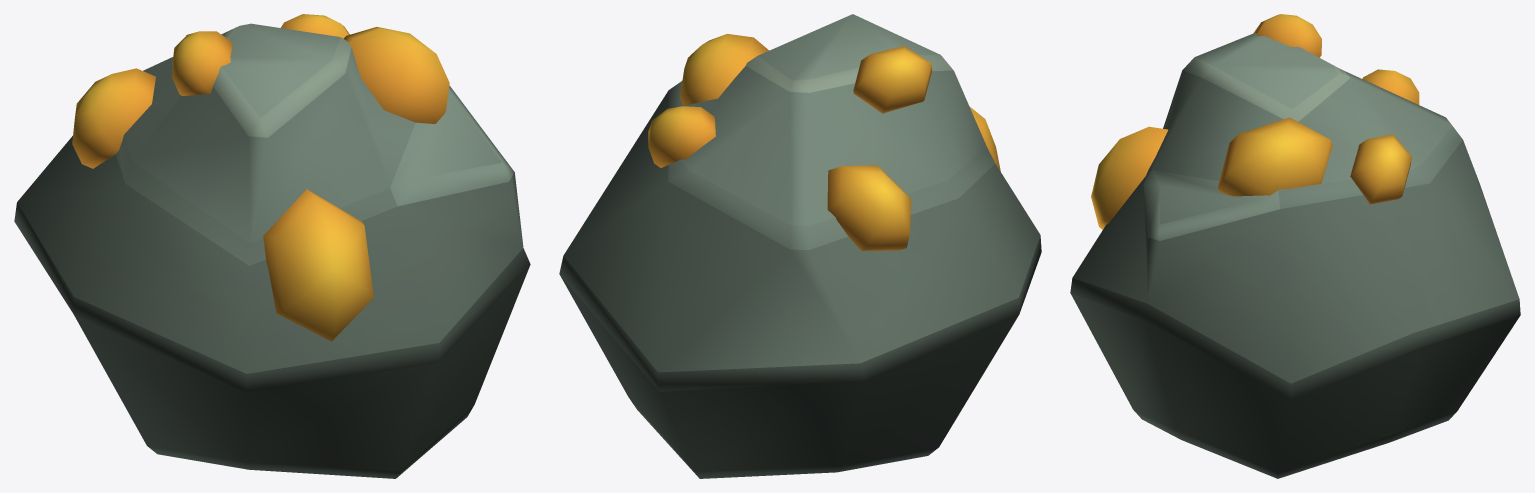
Rendered from ore_nuggets_gold_M.fbx.
3 renders of one model, left to right at view 1: azimuth 30°, elevation 25°; view 2: azimuth 150°, elevation 25°; view 3: azimuth 270°, elevation 25°, orthographic. The views are drawn at different scales.
Visible parts, largest first — view 1: ore_nuggets_gold_M; view 2: ore_nuggets_gold_M; view 3: ore_nuggets_gold_M.
Part boxes in pixels (left/top/right/bottom): ore_nuggets_gold_M: left=14, top=14, right=530, bottom=478; ore_nuggets_gold_M: left=559, top=14, right=1041, bottom=478; ore_nuggets_gold_M: left=1070, top=14, right=1520, bottom=478.
Bounding box in the file's own units: 137 × 136 × 139.
1 material, 1 textured.
